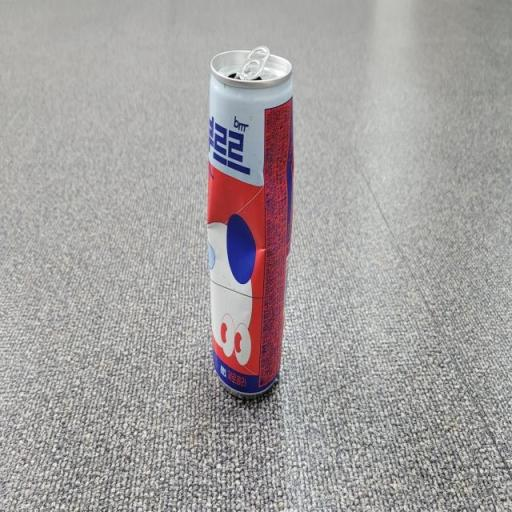metal: (190, 27, 316, 421)
